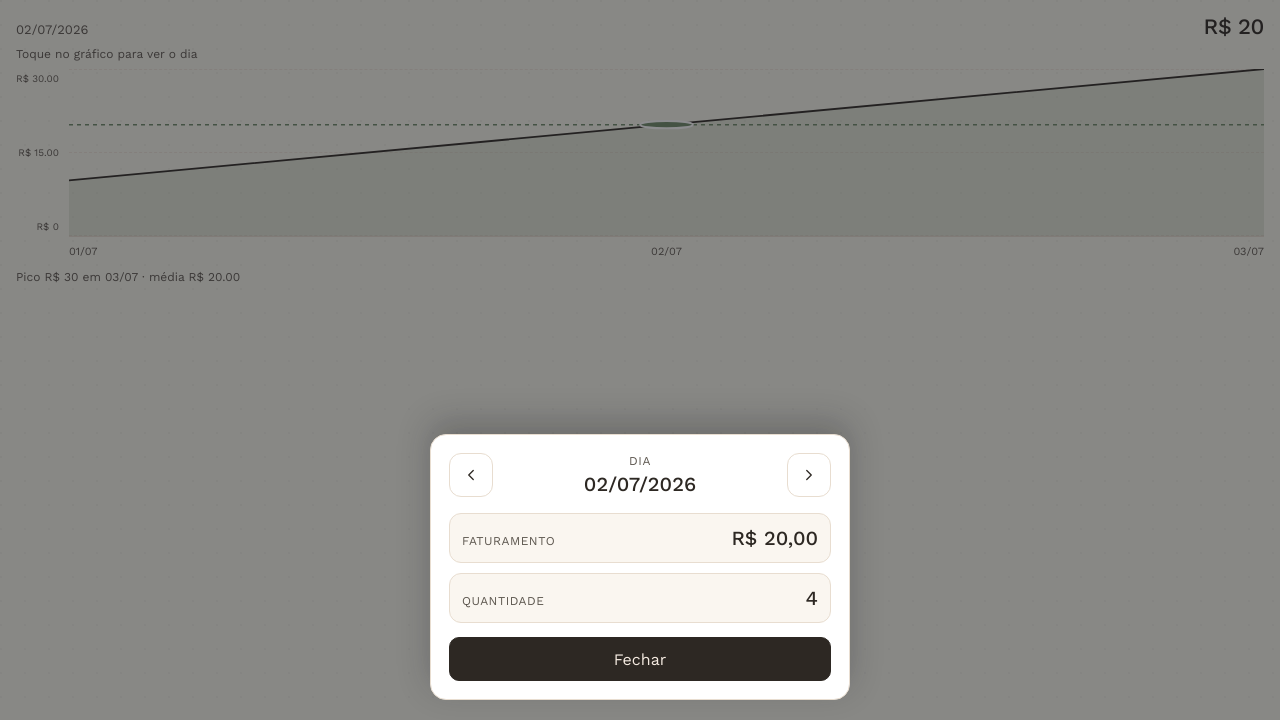
Test case: DailyBars (mobile) › opens a details sheet on tap instead of a transient tooltip
The width and height of the screenshot is (1280, 720).
Earlier steps of the test are not shown.
Check: the icon with class "chart-line" is shown, box [69, 69, 1264, 236]
Check: the element with class "chart-line-path" is shown, box [69, 69, 1264, 180]
Click the button "Fechar". click: click(640, 659)
box: [449, 637, 831, 681]
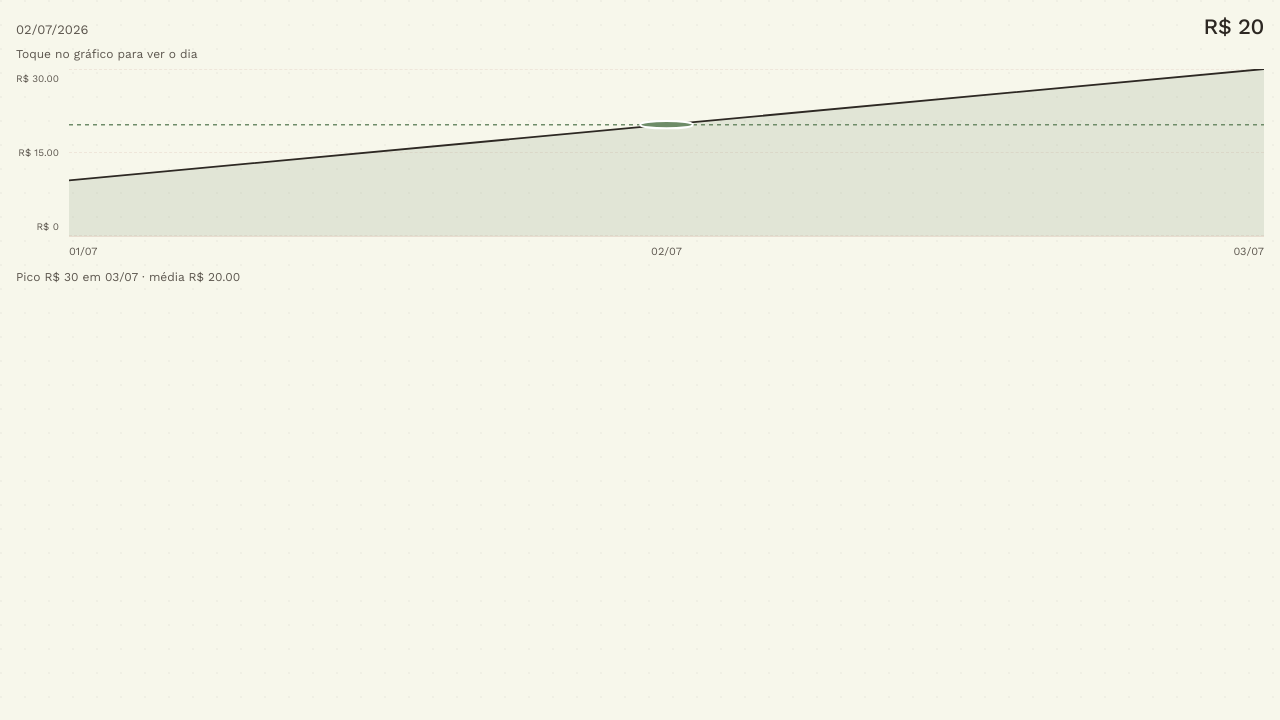
Check: the dialog is gone
